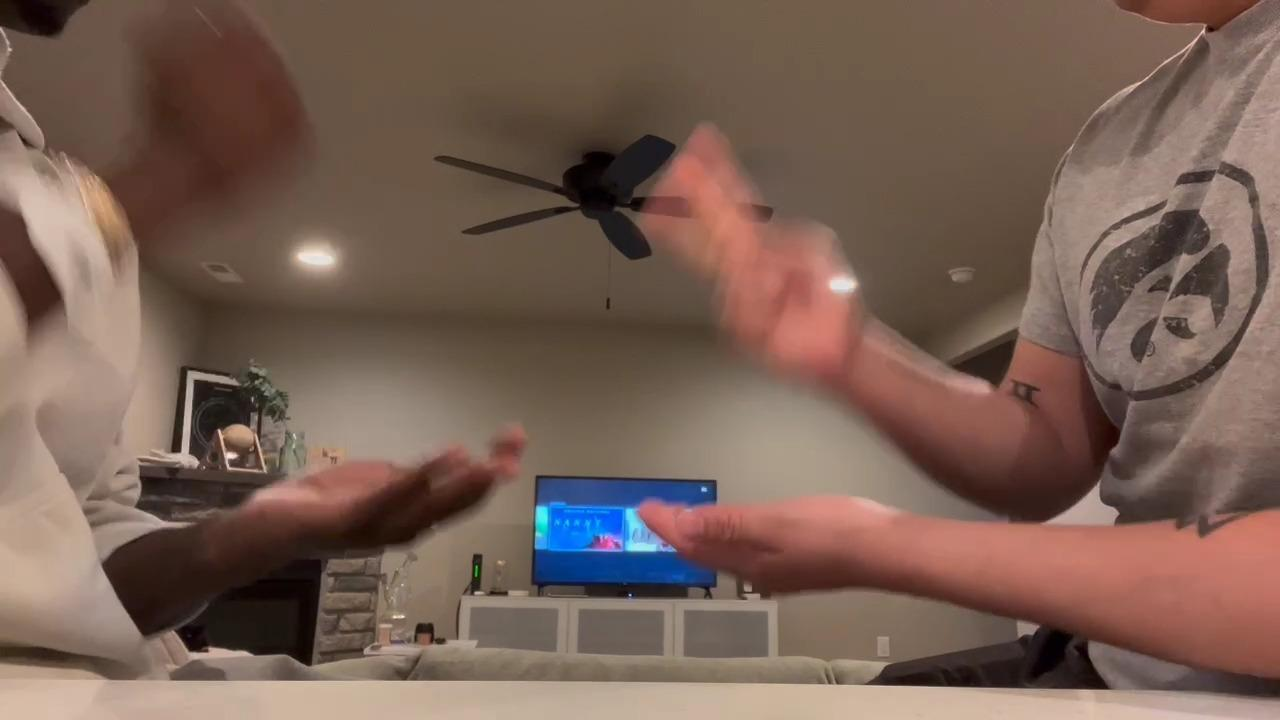Rock: (137, 7, 321, 205)
Scissors: (650, 133, 865, 387)
